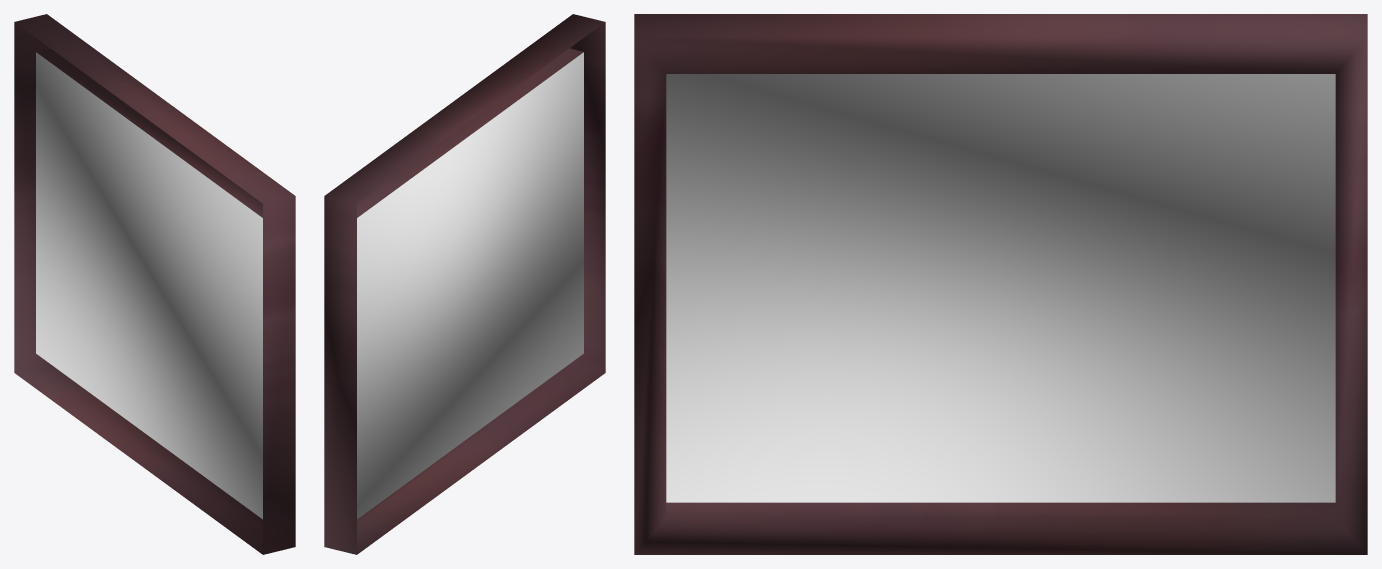
Rendered from Espelho.fbx.
3 renders of one model, left to right at view 1: azimuth 30°, elevation 25°; view 2: azimuth 150°, elevation 25°; view 3: azimuth 270°, elevation 25°, orthographic. The views are drawn at different scales.
Parts seen in each view (by area): view 1: Espelho; view 2: Espelho; view 3: Espelho.
Part boxes in pixels (bbox=[...]): Espelho: bbox=[14, 14, 295, 554]; Espelho: bbox=[324, 14, 605, 554]; Espelho: bbox=[634, 14, 1367, 554].
Size of the model in its own units: 23.12 by 307 by 239.
